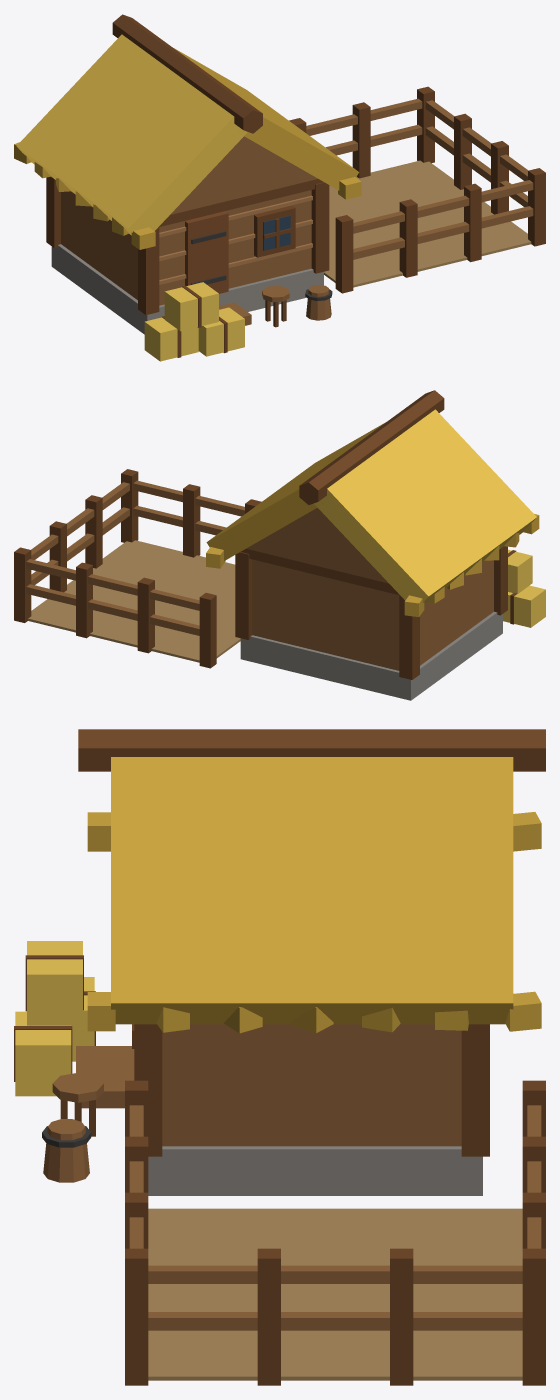
File: sheepfarm.glb
3 renders of one model, top to bottom at view 1: azimuth 30°, elevation 25°; view 2: azimuth 150°, elevation 25°; view 3: azimuth 270°, elevation 25°, orthographic. The views are drawn at different scales.
Visible parts, largest first — view 1: sheepfarm_stroh, sheepfarm_holz, sheepfarm_balken, sheepfarm_erde, sheepfarm_stroh_dunkel, sheepfarm_heu, sheepfarm_stein, sheepfarm_tuer, sheepfarm_holz_hell, sheepfarm_glas, sheepfarm_eisen; view 2: sheepfarm_holz, sheepfarm_stroh, sheepfarm_balken, sheepfarm_erde, sheepfarm_stein, sheepfarm_stroh_dunkel, sheepfarm_heu; view 3: sheepfarm_stroh_dunkel, sheepfarm_holz, sheepfarm_erde, sheepfarm_balken, sheepfarm_stein, sheepfarm_heu.
Boxes of the visible parts, <box> form: sheepfarm_stroh: <box>16,34,247,235</box>; sheepfarm_holz: <box>61,98,533,325</box>; sheepfarm_balken: <box>46,14,545,357</box>; sheepfarm_erde: <box>324,160,531,287</box>; sheepfarm_stroh_dunkel: <box>14,48,361,249</box>; sheepfarm_heu: <box>144,282,244,361</box>; sheepfarm_stein: <box>51,244,323,334</box>; sheepfarm_tuer: <box>185,211,228,293</box>; sheepfarm_holz_hell: <box>159,195,312,284</box>; sheepfarm_glas: <box>263,215,290,250</box>; sheepfarm_eisen: <box>191,231,332,300</box>; sheepfarm_holz: <box>26,480,493,670</box>; sheepfarm_stroh: <box>314,409,536,604</box>; sheepfarm_balken: <box>14,390,516,679</box>; sheepfarm_erde: <box>28,540,240,662</box>; sheepfarm_stein: <box>240,611,502,700</box>; sheepfarm_stroh_dunkel: <box>206,422,539,616</box>; sheepfarm_heu: <box>503,549,545,627</box>; sheepfarm_stroh_dunkel: <box>87,757,541,1033</box>; sheepfarm_holz: <box>43,1024,541,1330</box>; sheepfarm_erde: <box>148,1208,522,1380</box>; sheepfarm_balken: <box>14,729,545,1385</box>; sheepfarm_stein: <box>148,1146,482,1195</box>; sheepfarm_heu: <box>15,941,94,1096</box>.
Bounding box in the file's own units: 3.72 × 1.84 × 2.27.
